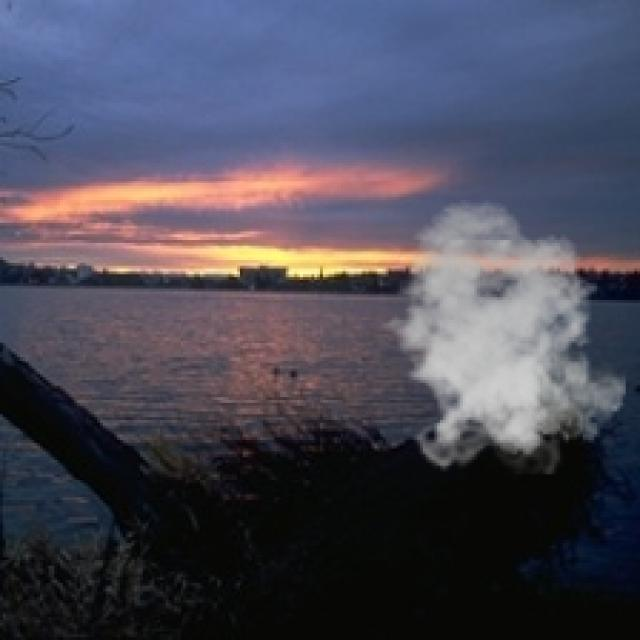smoke: (371, 200, 626, 474)
